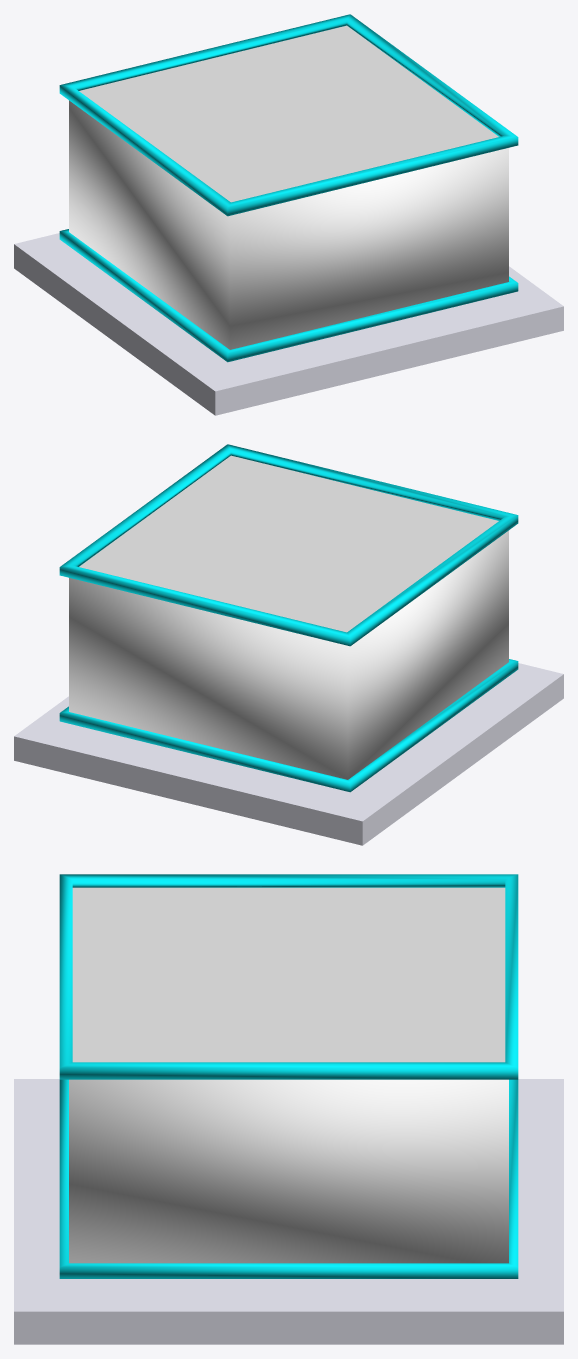
Rendered from square_vanilla_image.glb.
3 views of the same model, one above another, from view 1: azimuth 30°, elevation 25°; view 2: azimuth 150°, elevation 25°; view 3: azimuth 270°, elevation 25° (orthographic). The views are drawn at different scales.
Parts seen in each view (by area): view 1: CakeBase, CakeTopImage, IcingStand, IcingRing, IcingRing.001; view 2: CakeBase, CakeTopImage, IcingStand, IcingRing, IcingRing.001; view 3: CakeBase, CakeTopImage, IcingStand, IcingRing, IcingRing.001.
Boxes of the visible parts, bbox=[...] form: CakeBase: bbox=[69, 100, 508, 349]; CakeTopImage: bbox=[79, 25, 498, 202]; IcingStand: bbox=[14, 233, 563, 415]; IcingRing: bbox=[59, 14, 518, 216]; IcingRing.001: bbox=[59, 229, 518, 362]; CakeBase: bbox=[69, 530, 508, 779]; CakeTopImage: bbox=[79, 455, 498, 632]; IcingStand: bbox=[14, 663, 563, 845]; IcingRing: bbox=[59, 444, 518, 646]; IcingRing.001: bbox=[59, 659, 518, 792]; CakeBase: bbox=[69, 1079, 508, 1263]; CakeTopImage: bbox=[72, 887, 505, 1062]; IcingStand: bbox=[14, 1079, 563, 1344]; IcingRing: bbox=[59, 874, 518, 1079]; IcingRing.001: bbox=[59, 1079, 518, 1278].
Bounding box in the file's own units: 3 × 1.55 × 3.
